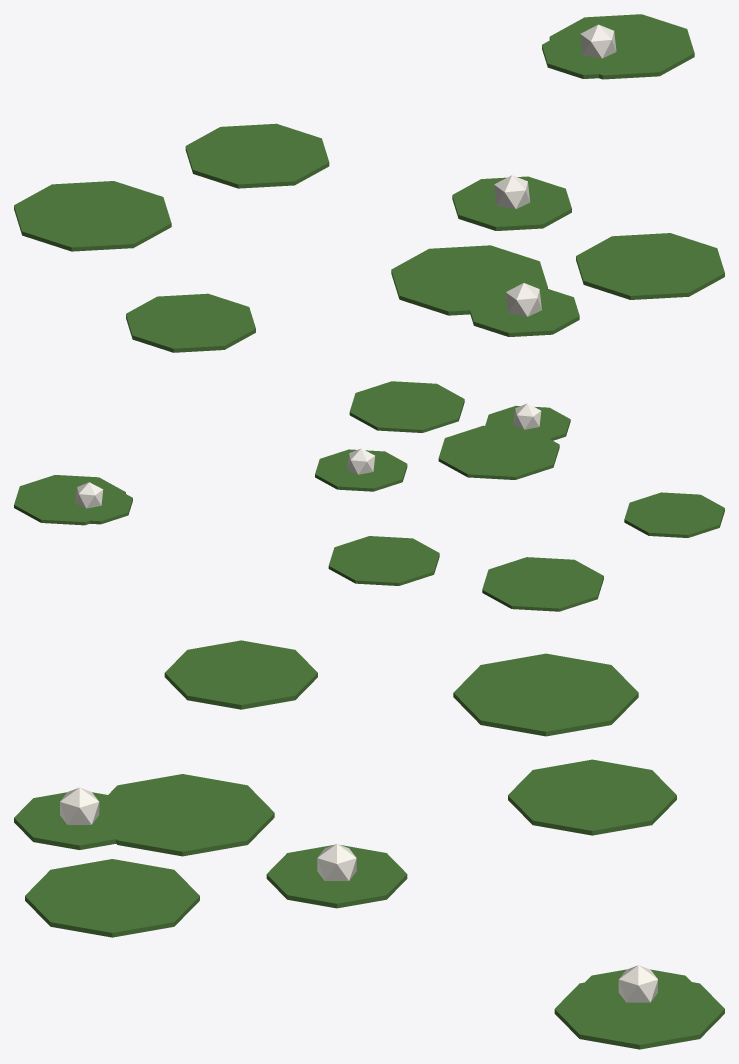
File: nackrosor_2.glb
The picture shows the model from 3 angles, top to bottom: view 1: azimuth 30°, elevation 25°; view 2: azimuth 150°, elevation 25°; view 3: azimuth 270°, elevation 25°; orthographic projection. The views are drawn at different scales.
Visible parts, largest first — view 1: nackrosor_2; view 2: nackrosor_2; view 3: nackrosor_2.
Boxes of the visible parts, left/top/right/bottom form: nackrosor_2: left=14, top=14, right=724, bottom=352; nackrosor_2: left=14, top=381, right=724, bottom=611; nackrosor_2: left=14, top=640, right=724, bottom=1049.
Size of the model in its own units: 3.72 by 0.18 by 2.77.
